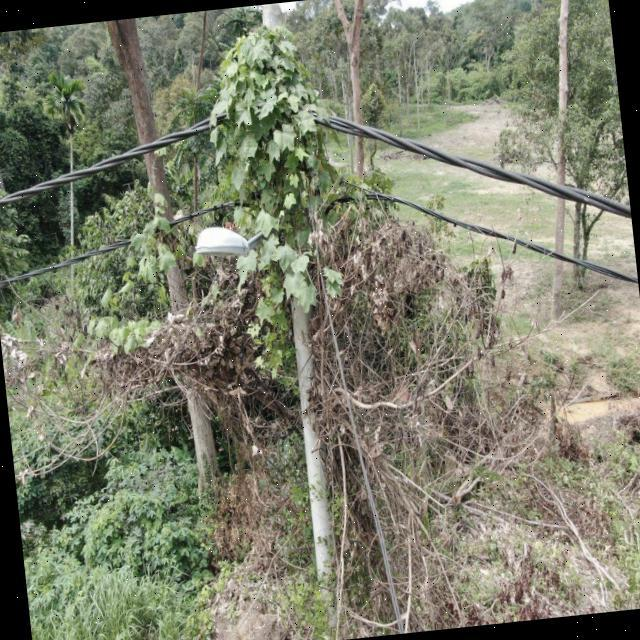critical vegetation: (190, 14, 364, 366)
